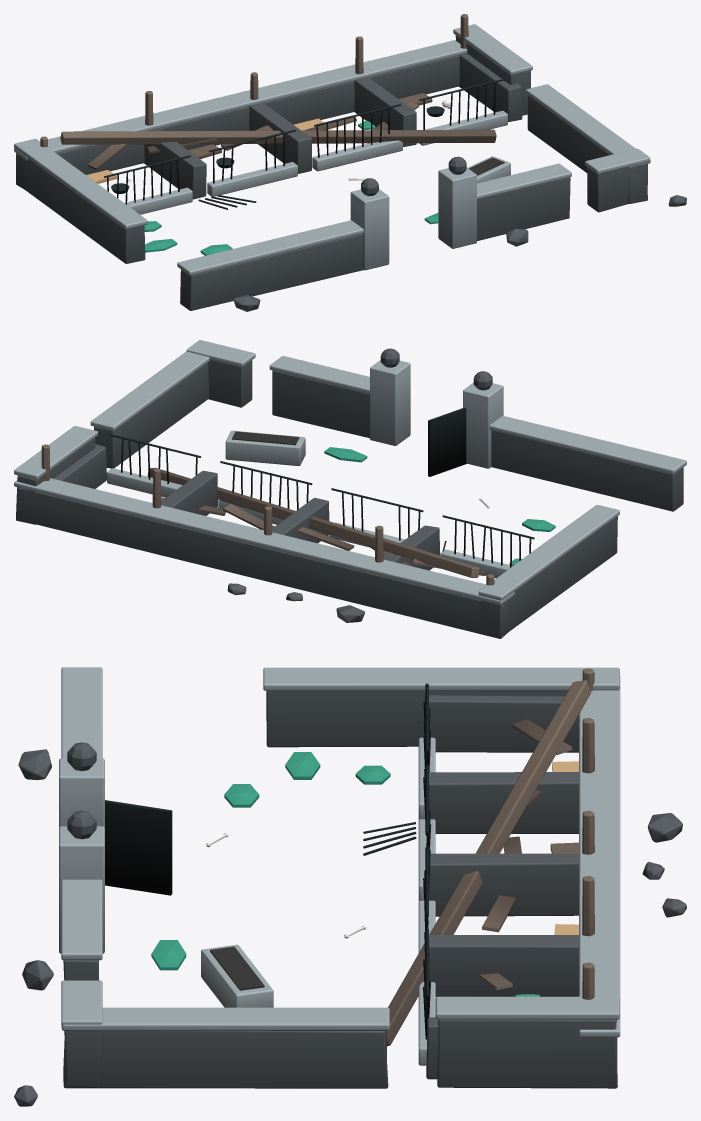
File: kennel_ruin.glb
3 views of the same model, one above another, from view 1: azimuth 30°, elevation 25°; view 2: azimuth 150°, elevation 25°; view 3: azimuth 270°, elevation 25° (orthographic). The views are drawn at different scales.
Visible parts, largest first — view 1: kennel_ruin; view 2: kennel_ruin; view 3: kennel_ruin.
Part boxes in pixels (x1,y1,x2,y2): kennel_ruin: [14, 14, 686, 311]; kennel_ruin: [14, 340, 686, 638]; kennel_ruin: [14, 667, 686, 1106].
Size of the model in its own units: 15.5 by 2.72 by 11.7.
Materials: 1 (1 with a texture image).
